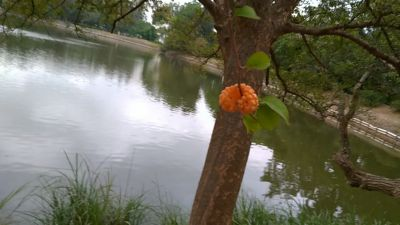eggs: (218, 81, 260, 115)
